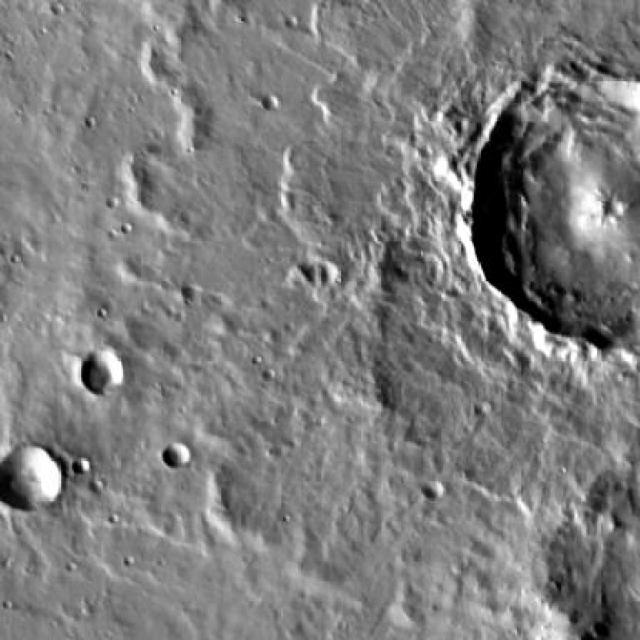crater: (471, 64, 640, 347), (0, 448, 68, 512), (82, 352, 129, 396), (162, 442, 192, 468), (426, 478, 448, 498), (75, 456, 92, 472), (260, 94, 278, 109)
